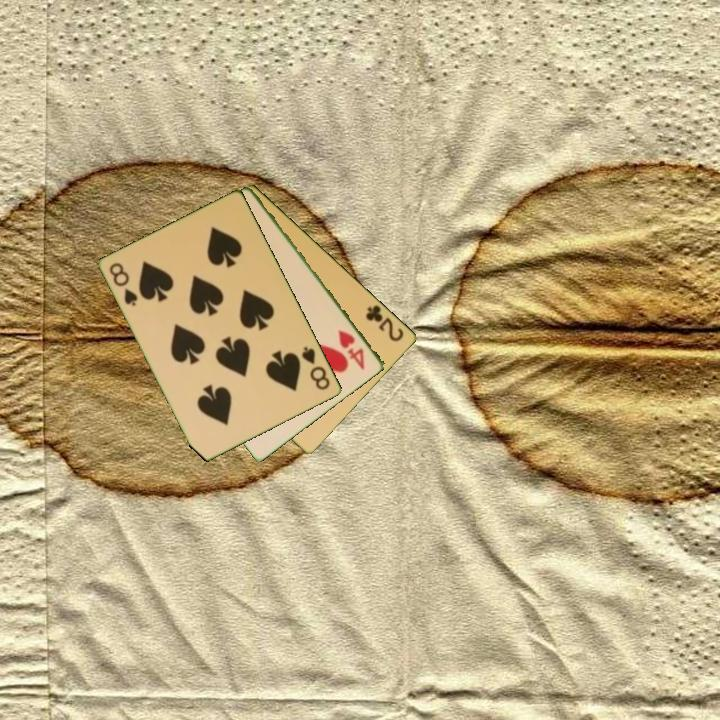2c: (362, 301, 407, 345)
4h: (335, 326, 368, 373)
8s: (298, 343, 333, 393), (106, 259, 141, 309)
